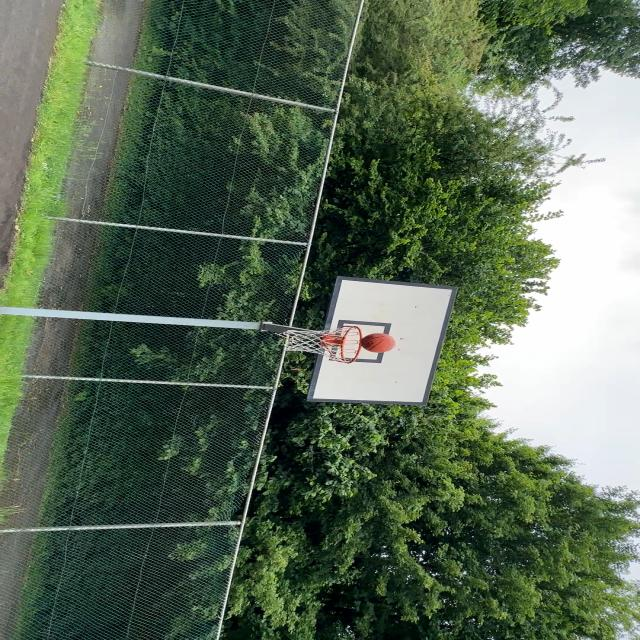rebound_hit: (359, 332, 395, 352)
